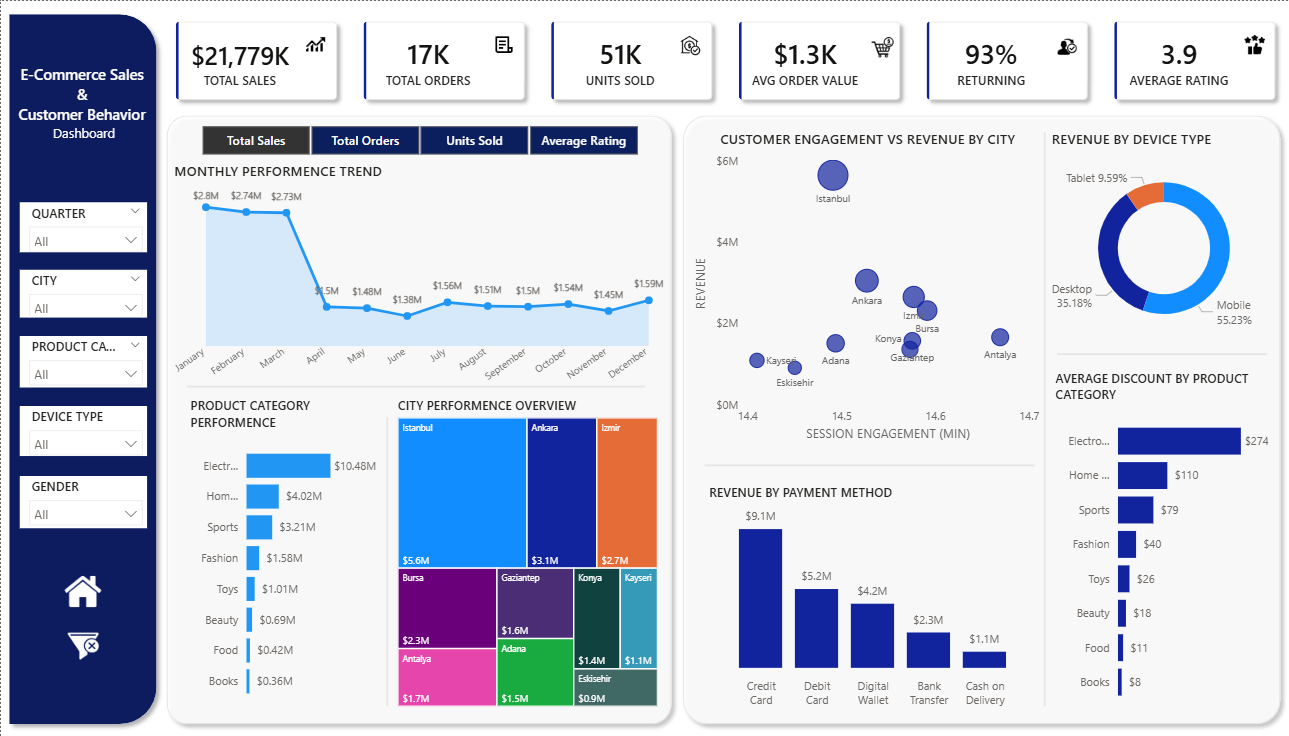

What the dashboard file says about the page in this screenshot:
{"tool":"powerbi","page":{"name":"Sales Overview","canvas":[1400,800],"ordinal":0},"visuals":[{"type":"shape","box":[1.4,8.2,167.1,784],"z":0},{"type":"shape","box":[169.8,161.7,603.3,320.7],"z":2000},{"type":"shape","box":[171.2,481,548.9,319.3],"z":3000},{"type":"shape","box":[771.7,160.6,627.7,322],"z":4000},{"type":"textbox","box":[1.4,20.4,169.8,130.4],"z":5000},{"type":"lineChart","title":"MONTHLY PERFORMANCE TREND","fields":{"Y":["ecommerce_customer_behavior_dataset.Total Sales"],"Category":["date_table.Year Month"]},"box":[183.4,183.4,577.4,284],"z":6000},{"type":"clusteredBarChart","title":"PRODUCT CATEGORY PERFORMANCE","fields":{"Y":["ecommerce_customer_behavior_dataset.Total Sales"],"Category":["ecommerce_customer_behavior_dataset.Product_Category"]},"box":[789.4,183.7,587,290.8],"z":7000},{"type":"clusteredColumnChart","title":"CITY PERFORMANCE OVERVIEW","fields":{"Y":["ecommerce_customer_behavior_dataset.Total Sales"],"Category":["ecommerce_customer_behavior_dataset.City"]},"box":[183.4,500,536.7,289.4],"z":8000},{"type":"slicer","fields":{"Values":["Parameter.Parameter"]},"box":[0,328.8,169.8,191.6],"z":9000},{"type":"shape","box":[720.1,481,679.4,319.3],"z":10000},{"type":"tableEx","fields":{"Values":["date_table.Year Month","ecommerce_customer_behavior_dataset.Total Sales","ecommerce_customer_behavior_dataset.Sales growth %","ecommerce_customer_behavior_dataset.Total Orders","ecommerce_customer_behavior_dataset.Orders growth %","ecommerce_customer_behavior_dataset.Units Sold","ecommerce_customer_behavior_dataset.UnitSold growth %"]},"box":[735.1,500,649.5,285.3],"z":11000},{"type":"shape","box":[171.2,31.3,402.2,131.8],"z":12000},{"type":"shape","box":[582.9,31.6,402.2,131.8],"z":13000},{"type":"shape","box":[993.2,31.6,402.2,131.8],"z":14000},{"type":"pageNavigator","box":[10.9,150.8,150.8,148.1],"z":15000},{"type":"slicer","fields":{"Values":["date_table.Quarter"]},"box":[21.7,529.9,120.9,61.1],"z":16000},{"type":"cardVisual","fields":{"Data":["ecommerce_customer_behavior_dataset.Total Sales"]},"box":[171.2,42.1,201.1,118.2],"z":17000},{"type":"cardVisual","fields":{"Data":["ecommerce_customer_behavior_dataset.Last Month Sales"]},"box":[346.5,85.6,212,67.9],"z":18000},{"type":"cardVisual","fields":{"Data":["ecommerce_customer_behavior_dataset.Sales growth %"]},"box":[394,51.6,116.8,58.4],"z":19000},{"type":"cardVisual","fields":{"Data":["ecommerce_customer_behavior_dataset.Total Orders"]},"box":[588.3,35.4,201.1,118.2],"z":20000},{"type":"cardVisual","fields":{"Data":["ecommerce_customer_behavior_dataset.Last Month Orders"]},"box":[756.8,85.6,212,67.9],"z":21000},{"type":"cardVisual","fields":{"Data":["ecommerce_customer_behavior_dataset.Orders growth %"]},"box":[804.4,50.3,116.8,58.4],"z":22000},{"type":"cardVisual","fields":{"Data":["ecommerce_customer_behavior_dataset.Units Sold"]},"box":[993.2,35.3,201.1,118.2],"z":23000},{"type":"cardVisual","fields":{"Data":["ecommerce_customer_behavior_dataset.Last Month Units"]},"box":[1176.6,85.6,212,67.9],"z":24000},{"type":"cardVisual","fields":{"Data":["ecommerce_customer_behavior_dataset.UnitSold growth %"]},"box":[1226.9,53,116.8,58.4],"z":25000},{"type":"slicer","fields":{"Values":["ecommerce_customer_behavior_dataset.City"]},"box":[21.7,612.8,120.9,63.9],"z":26000},{"type":"slicer","fields":{"Values":["ecommerce_customer_behavior_dataset.Product_Category"]},"box":[23.1,697,120.9,64],"z":27000},{"type":"shape","box":[181.1,3,1208.3,32],"z":27500},{"type":"textbox","box":[611.4,0,524.5,50.3],"z":28000}]}

Visuals, with their boxes in screenshot pixels (x1, y1, x2, y2), scaled from the page's 1400x800 canvas onto the 1289x736 screenshot:
shape: 1/8/155/729
shape: 156/149/712/444
shape: 158/443/663/735
shape: 711/148/1288/444
textbox: 1/19/158/139
"MONTHLY PERFORMANCE TREND" lineChart: 169/169/700/430
"PRODUCT CATEGORY PERFORMANCE" clusteredBarChart: 727/169/1267/437
"CITY PERFORMANCE OVERVIEW" clusteredColumnChart: 169/460/663/726
slicer - Parameter.Parameter: 0/302/156/479
shape: 663/443/1288/735
tableEx - date_table.Year Month x ecommerce_customer_behavior_dataset.Total Sales: 677/460/1275/722
shape: 158/29/528/150
shape: 537/29/907/150
shape: 914/29/1285/150
pageNavigator: 10/139/149/275
slicer - date_table.Quarter: 20/488/131/544
cardVisual - ecommerce_customer_behavior_dataset.Total Sales: 158/39/343/147
cardVisual - ecommerce_customer_behavior_dataset.Last Month Sales: 319/79/514/141
cardVisual - ecommerce_customer_behavior_dataset.Sales growth %: 363/47/470/101
cardVisual - ecommerce_customer_behavior_dataset.Total Orders: 542/33/727/141
cardVisual - ecommerce_customer_behavior_dataset.Last Month Orders: 697/79/892/141
cardVisual - ecommerce_customer_behavior_dataset.Orders growth %: 741/46/848/100
cardVisual - ecommerce_customer_behavior_dataset.Units Sold: 914/32/1100/141
cardVisual - ecommerce_customer_behavior_dataset.Last Month Units: 1083/79/1279/141
cardVisual - ecommerce_customer_behavior_dataset.UnitSold growth %: 1130/49/1237/102
slicer - ecommerce_customer_behavior_dataset.City: 20/564/131/623
slicer - ecommerce_customer_behavior_dataset.Product_Category: 21/641/133/700
shape: 167/3/1279/32
textbox: 563/0/1046/46
